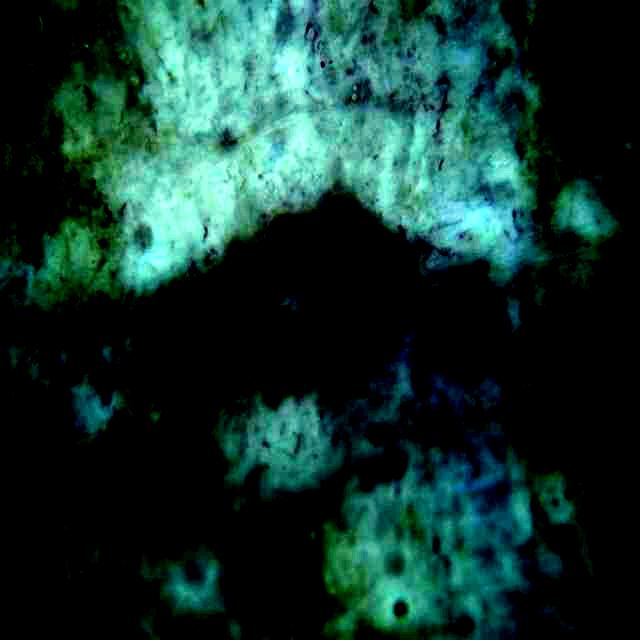BCC: (113, 182, 576, 637)
